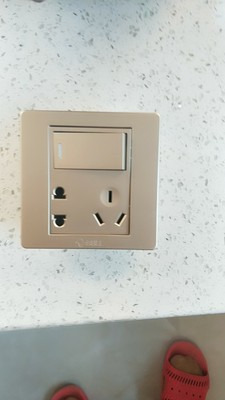switch: (49, 124, 133, 177)
